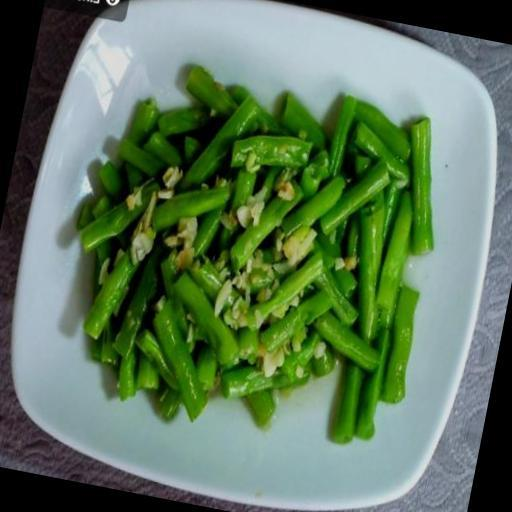buncis_rebus: (36, 25, 478, 486)
